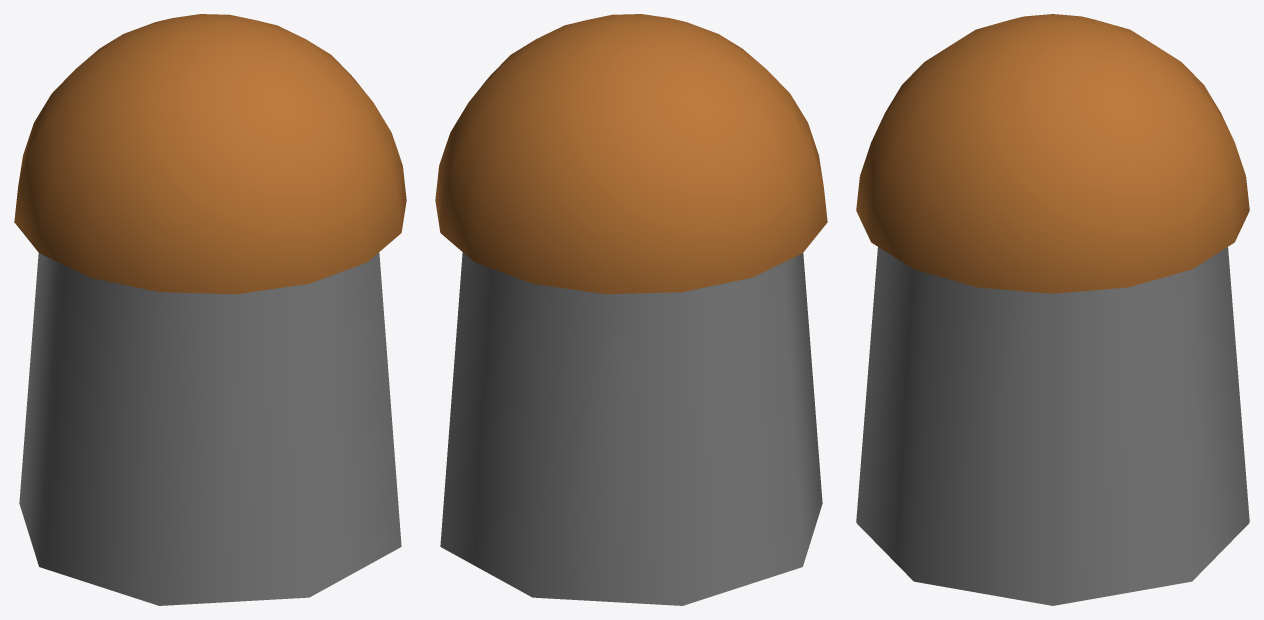
File: observatory_t2.glb
3 renders of one model, left to right at view 1: azimuth 30°, elevation 25°; view 2: azimuth 150°, elevation 25°; view 3: azimuth 270°, elevation 25°, orthographic.
Visible parts, largest first — view 1: building-observatory, rotating-dome; view 2: building-observatory, rotating-dome; view 3: building-observatory, rotating-dome.
Boxes of the visible parts, x1=… form: building-observatory: x1=19, y1=252, x2=401, y2=605; rotating-dome: x1=14, y1=14, x2=406, y2=294; building-observatory: x1=440, y1=252, x2=822, y2=605; rotating-dome: x1=435, y1=14, x2=827, y2=294; building-observatory: x1=856, y1=247, x2=1249, y2=605; rotating-dome: x1=856, y1=14, x2=1249, y2=293.
Size of the model in its own units: 0.1162 by 0.1597 by 0.1162.
